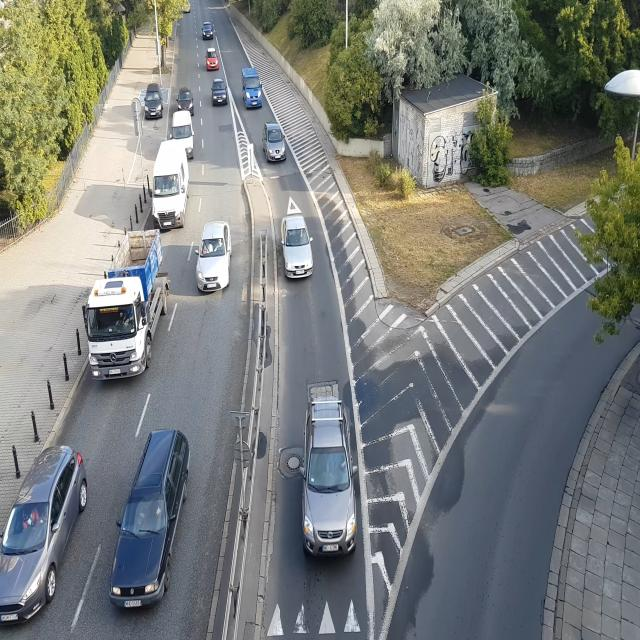car: (1, 448, 89, 626), (108, 432, 190, 611), (303, 394, 358, 564), (150, 137, 191, 230), (196, 221, 232, 291), (281, 214, 313, 282), (243, 66, 263, 109), (265, 123, 286, 163), (170, 112, 193, 141), (143, 89, 165, 119), (213, 80, 229, 107), (178, 88, 195, 110), (206, 49, 218, 71), (200, 22, 214, 39)
truck: (85, 232, 169, 381)
